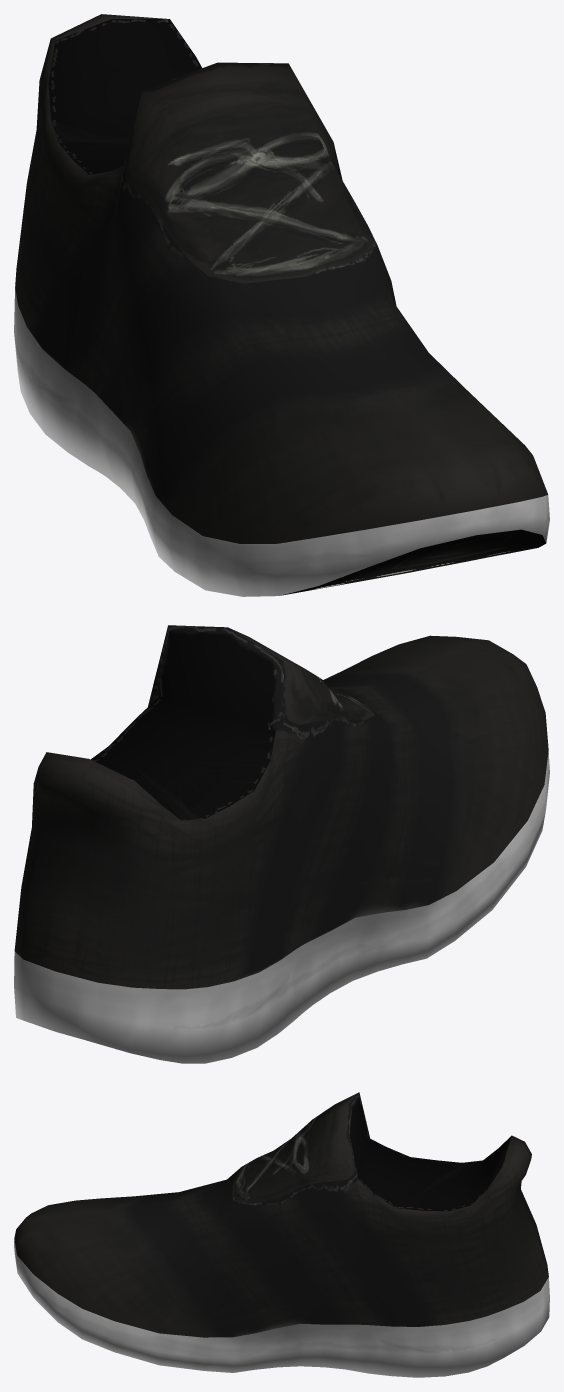
File: Right_Shoe.obj
3 views of the same model, one above another, from view 1: azimuth 30°, elevation 25°; view 2: azimuth 150°, elevation 25°; view 3: azimuth 270°, elevation 25° (orthographic). The views are drawn at different scales.
Visible parts, largest first — view 1: Right_Shoe; view 2: Right_Shoe; view 3: Right_Shoe.
Boxes of the visible parts, x1,y1,x2,y2 form: Right_Shoe: [14, 14, 549, 596]; Right_Shoe: [14, 625, 549, 1063]; Right_Shoe: [14, 1092, 549, 1377].
Size of the model in its own units: 0.1083 by 0.144 by 0.2904.
Materials: 1 (1 with a texture image).
